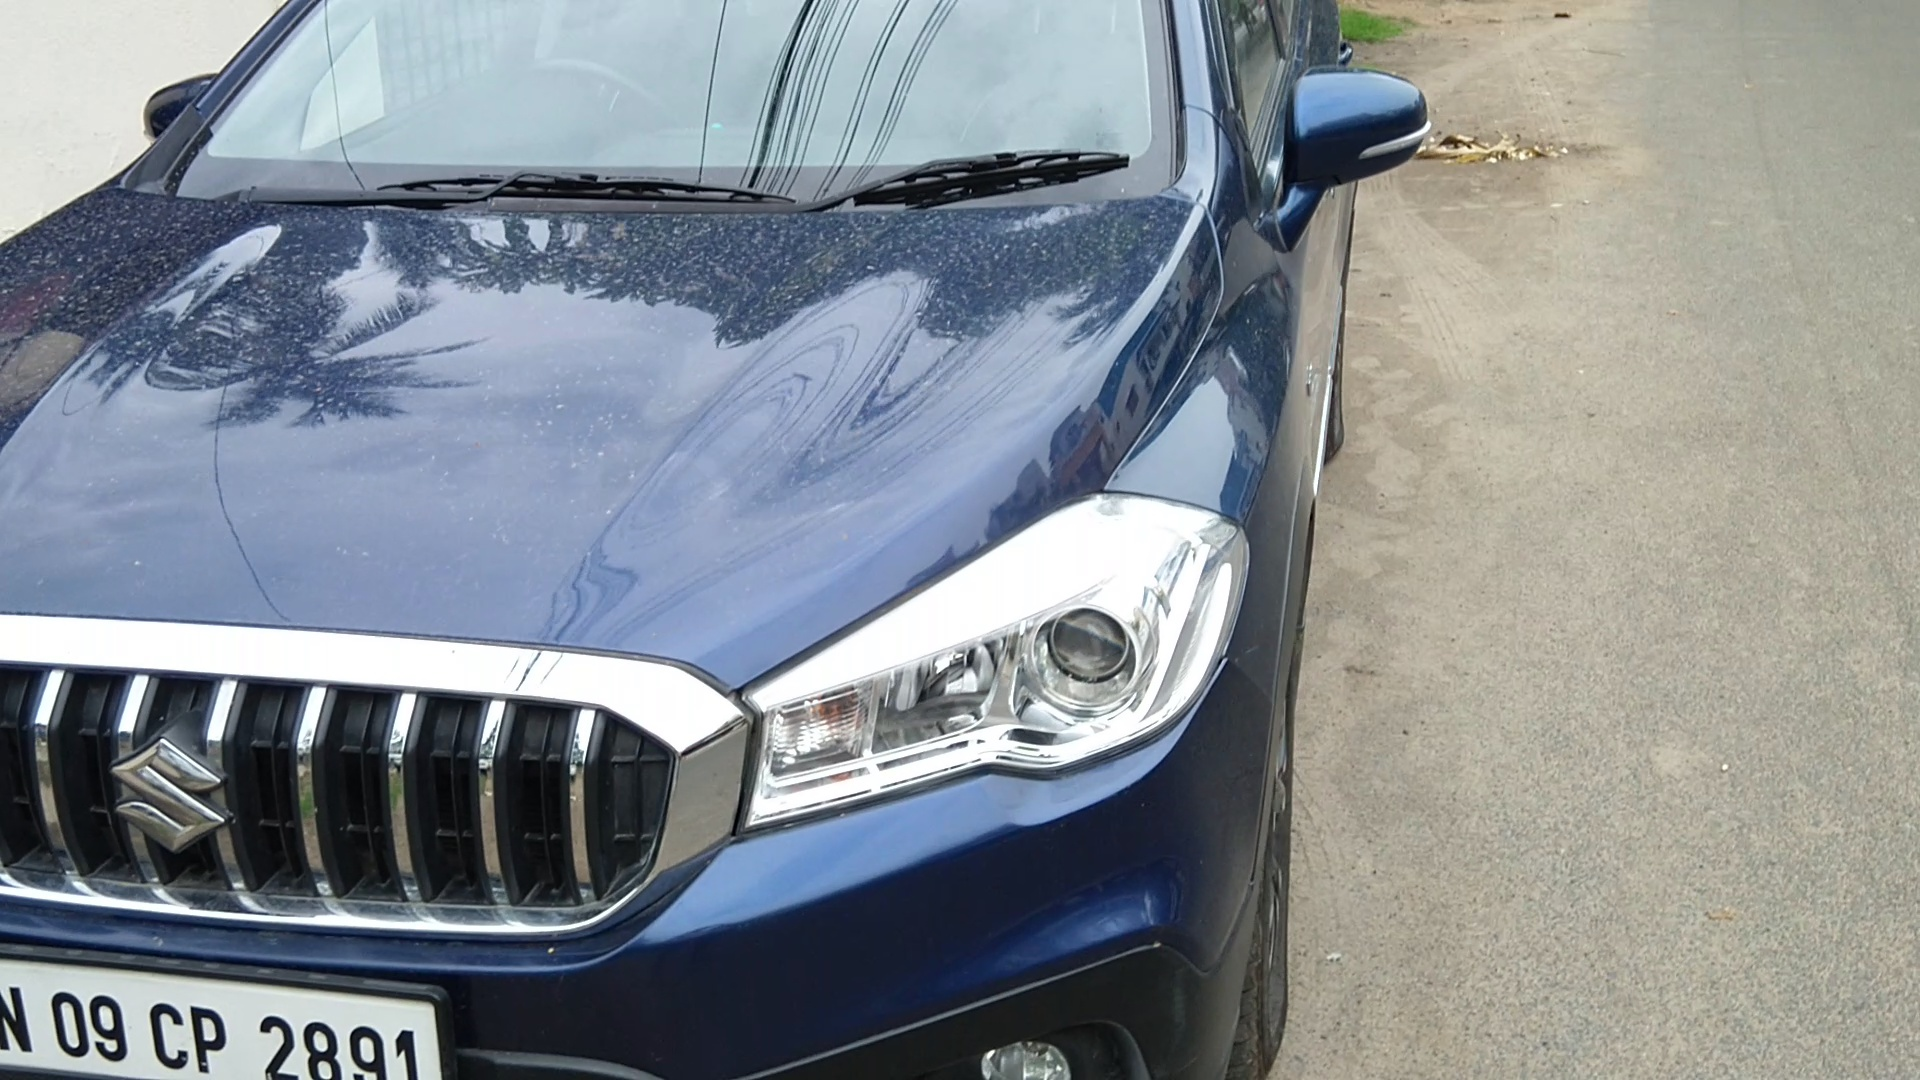front_grill: (3, 589, 744, 963)
headlamp: (746, 465, 1267, 855)
ovr_mirror: (1282, 58, 1437, 196)
